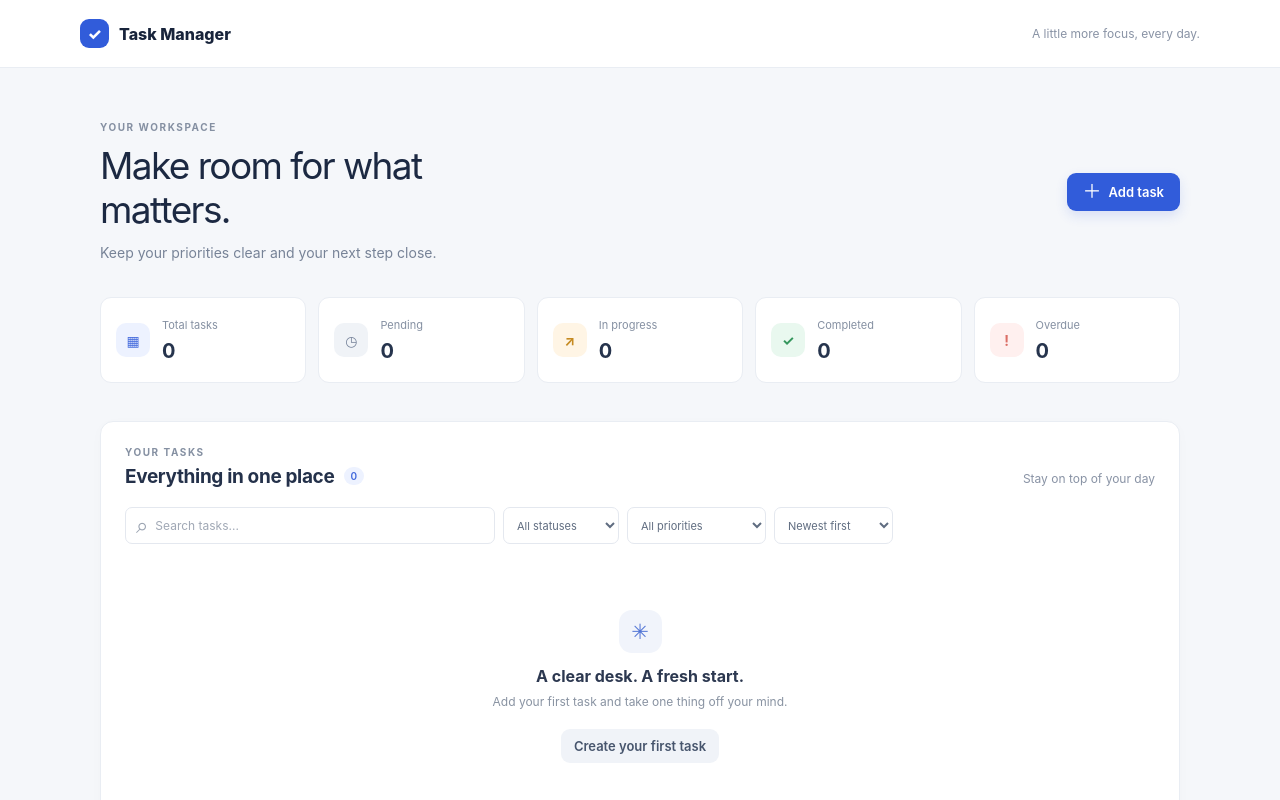
Test case: task manager journey › shows an actionable message when saving fails
The image size is (1280, 800).
Click the button "＋ Add task" at coordinates (1123, 192), box [1067,173,1180,211]
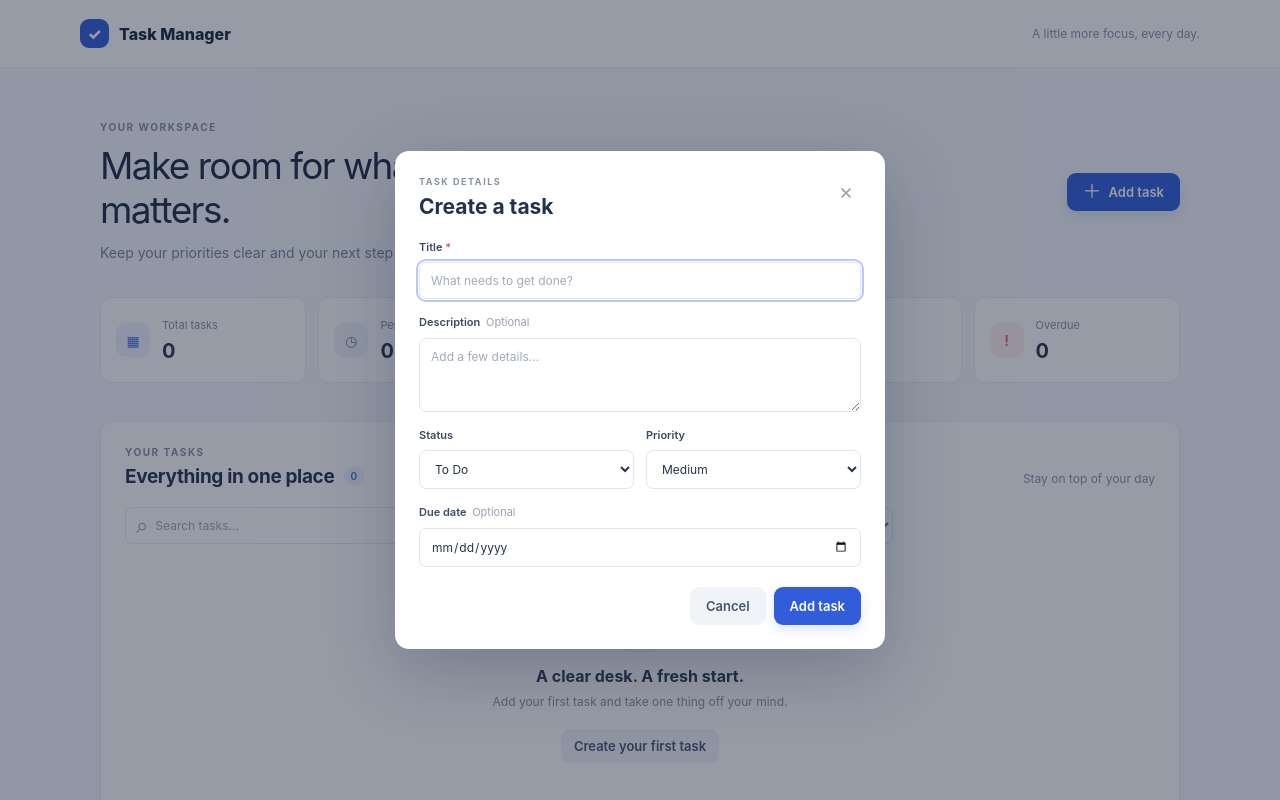
Type "Unsaved task" into the field labelled "Title *" at coordinates (640, 281), box [419,262,861,299]
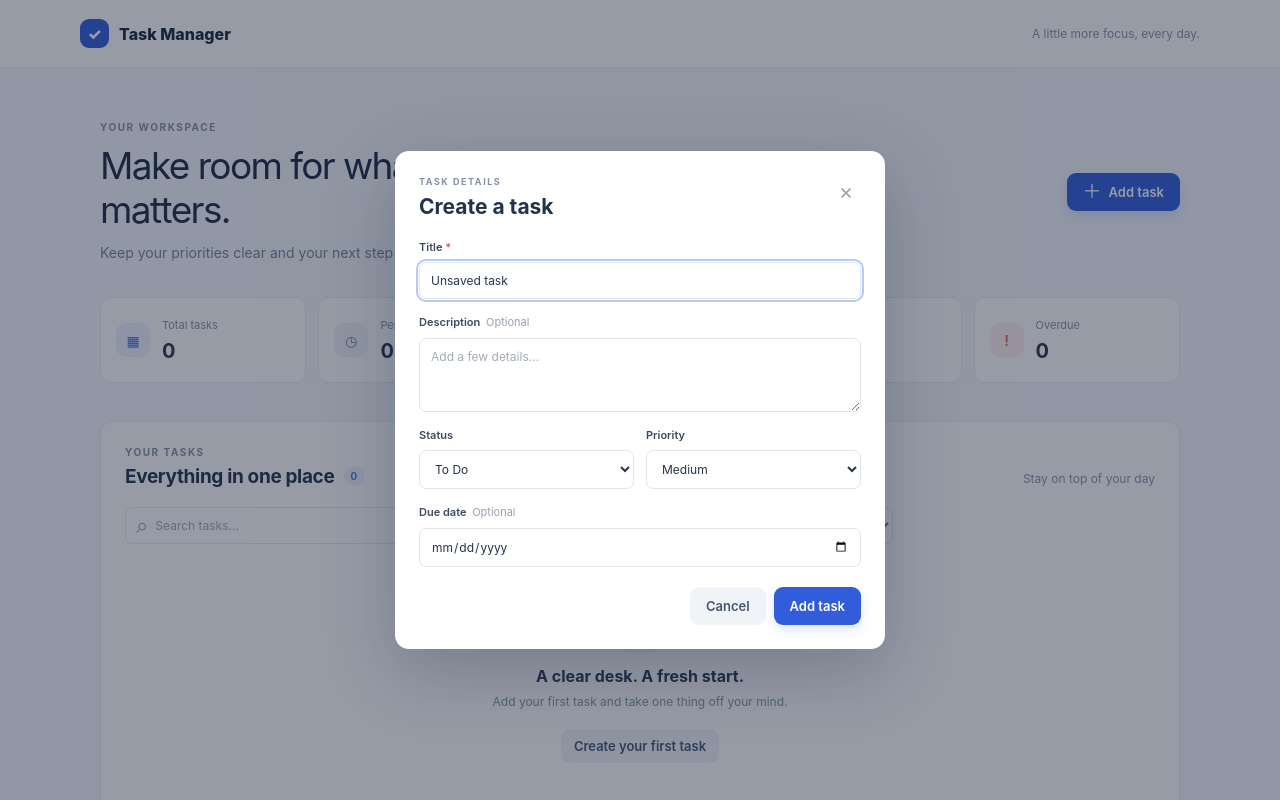
Click the button "Add task" at coordinates (817, 606), box [774,587,861,625]
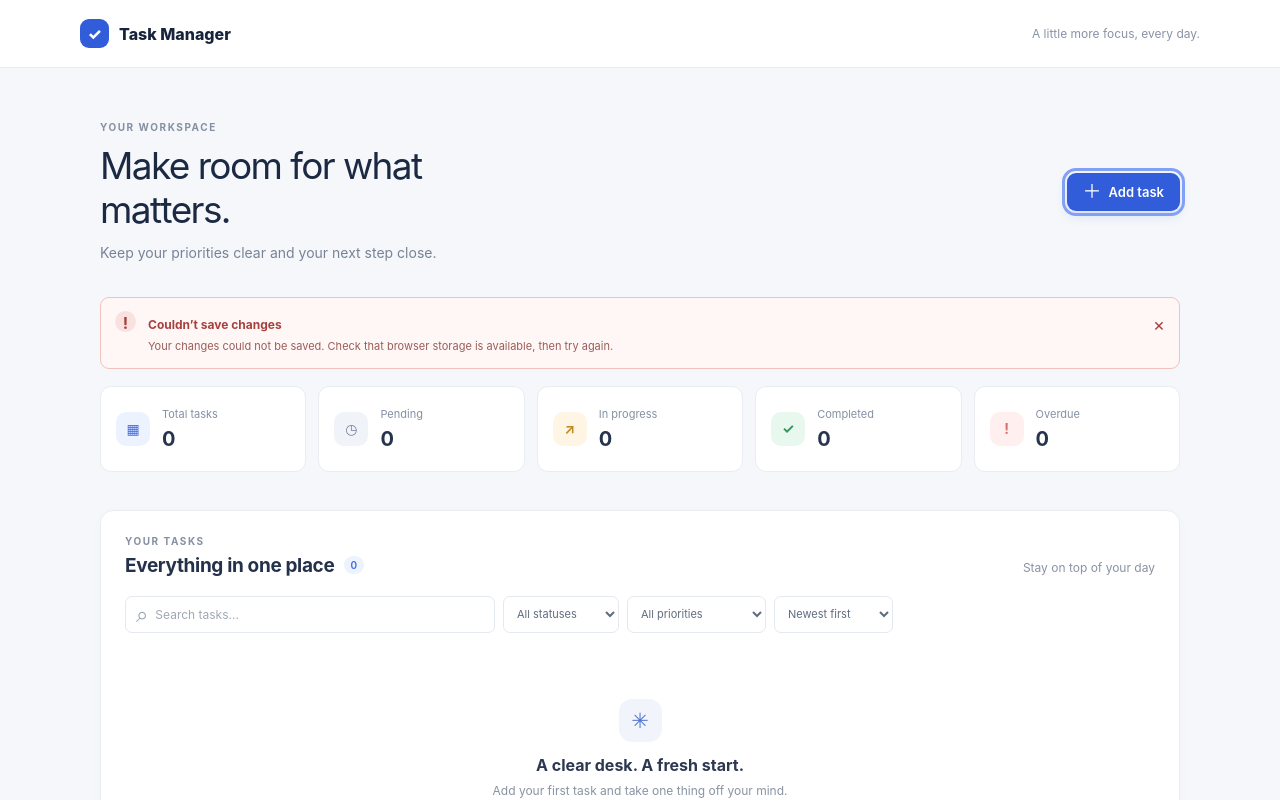
Now the message shows "check that browser storage is available", box [148,339,613,353]
